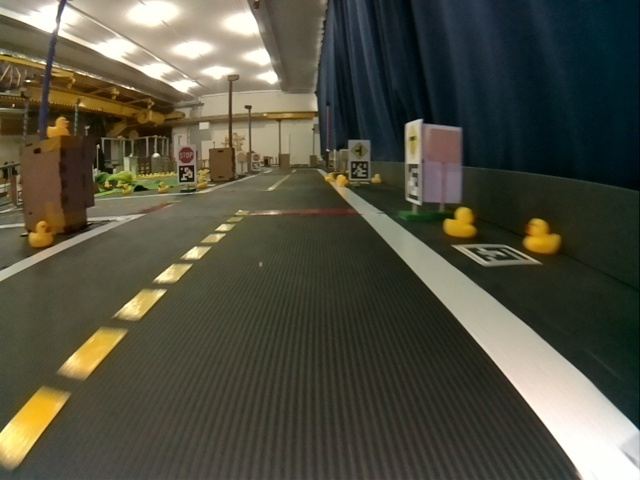Duckie: (522, 218, 561, 253), (443, 208, 476, 235), (30, 223, 52, 247), (47, 116, 69, 135), (336, 176, 347, 187), (157, 182, 168, 192)
Intersection sign: (404, 125, 420, 161), (350, 141, 368, 159)
QR code: (454, 246, 537, 266), (405, 163, 421, 202), (350, 161, 367, 179), (178, 165, 195, 182)
Stop sign: (179, 147, 194, 163)
